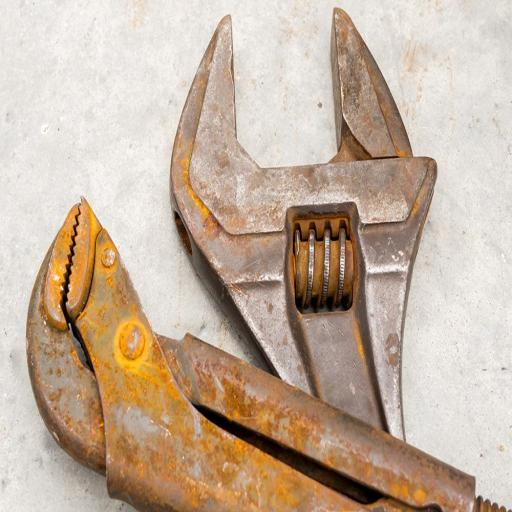segmentation: (26, 201, 485, 511), (92, 327, 504, 510), (34, 201, 248, 496), (332, 10, 413, 159), (40, 199, 110, 330), (284, 204, 362, 315)
